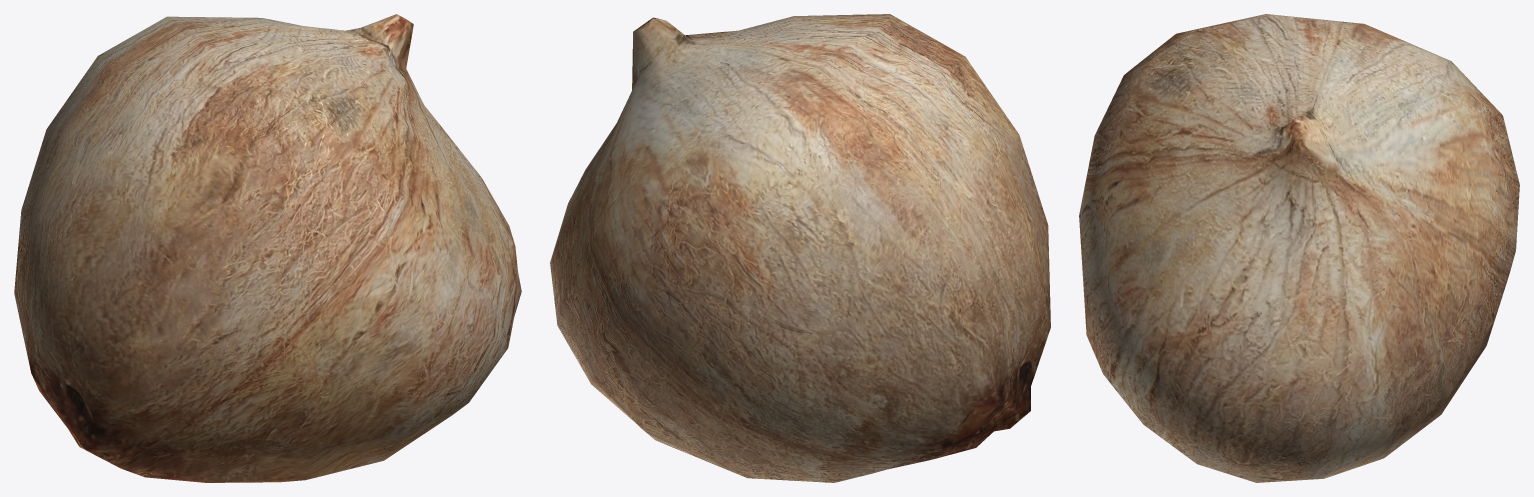
Rendered from A140_Onion_low.fbx.
3 views of the same model, side by side, from view 1: azimuth 30°, elevation 25°; view 2: azimuth 150°, elevation 25°; view 3: azimuth 270°, elevation 25° (orthographic). The views are drawn at different scales.
Visible parts, largest first — view 1: A140_Onion_low; view 2: A140_Onion_low; view 3: A140_Onion_low.
Part boxes in pixels (x1,y1,x2,y2): A140_Onion_low: [14, 14, 521, 482]; A140_Onion_low: [550, 14, 1050, 482]; A140_Onion_low: [1079, 14, 1519, 482].
Bounding box in the file's own units: 13.06 × 11.63 × 11.93.
Materials: 1 (1 with a texture image).
